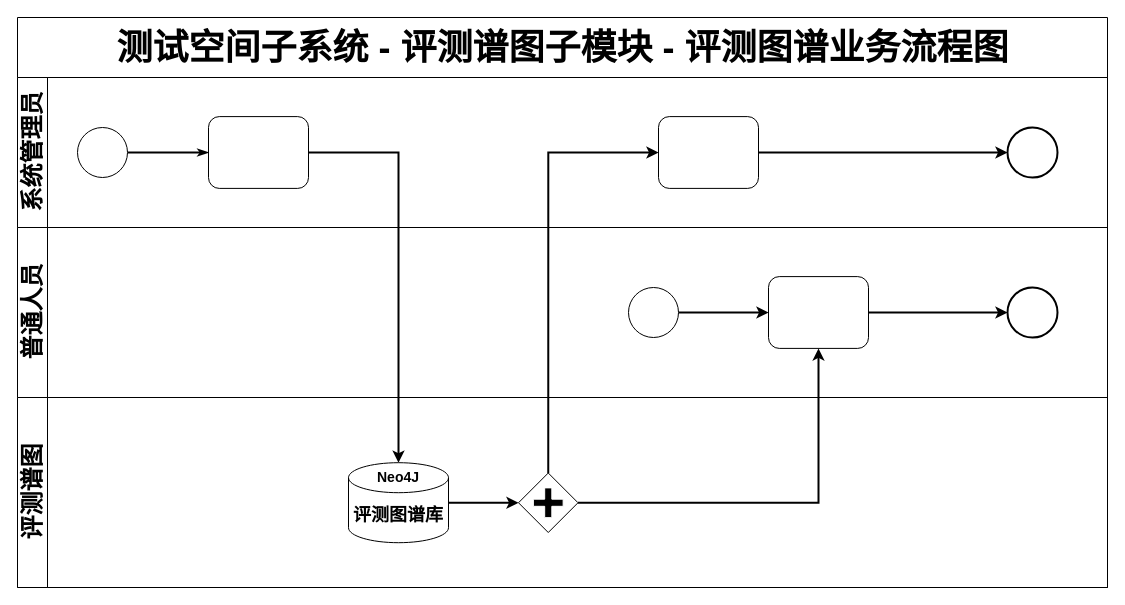
Image size: 1125x605. Some labels were removed from this diagram. Each missing label, with the centre of its shape:
新增图谱: the point at 258,152
浏览图谱: the point at 818,312
编辑图谱: the point at 708,152
